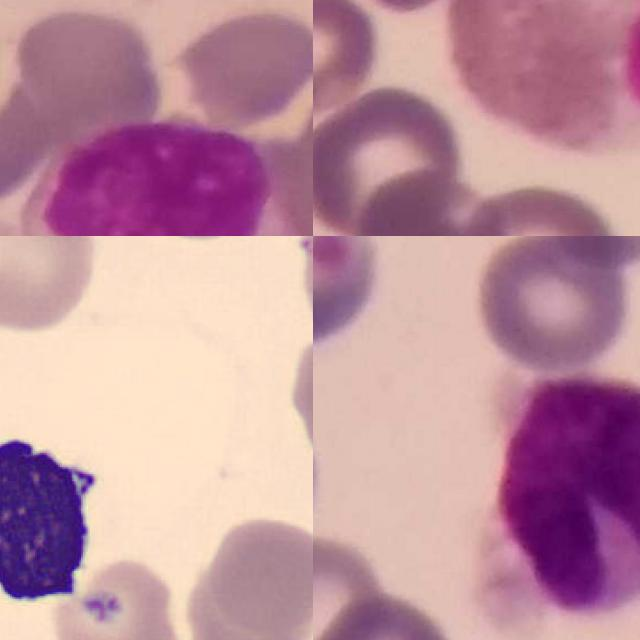Eosinophil: (449, 0, 640, 155)
Lymphocyte: (0, 419, 111, 613)
Monocyte: (484, 374, 640, 634), (20, 122, 306, 236)
RBC: (200, 511, 313, 636), (47, 553, 193, 640), (0, 236, 102, 336), (282, 326, 313, 484), (294, 236, 313, 347)
